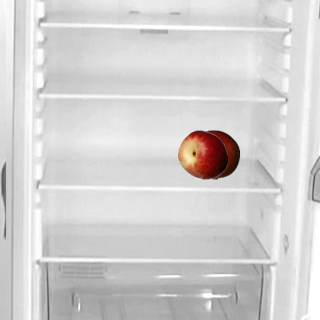Apple Braeburn: (189, 129, 239, 179)
Nectarine: (177, 129, 227, 179)
